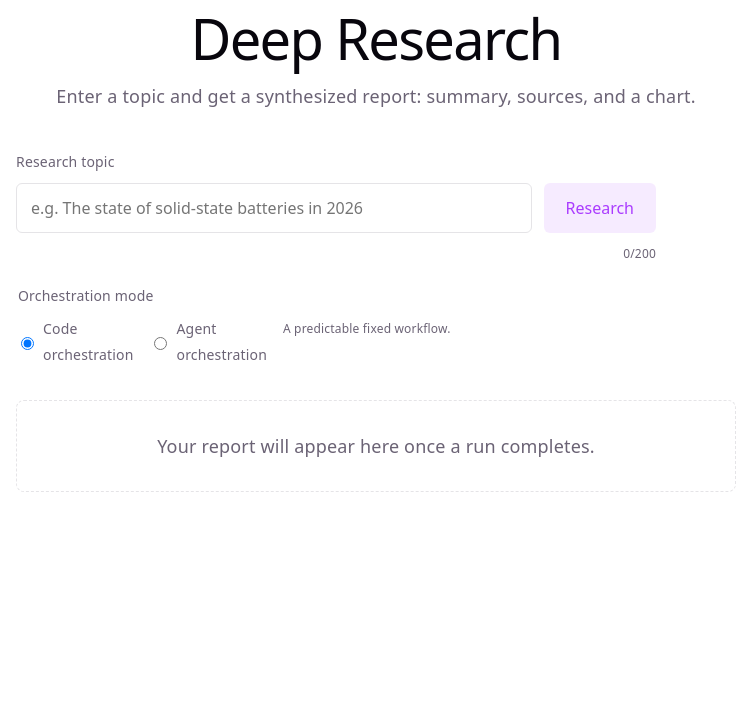
it: clarification flow › shows honest Agent progress and prevents duplicate research requests
Click the radio button labelled "Agent orchestration" at (161, 343), box [154,337,168,350]
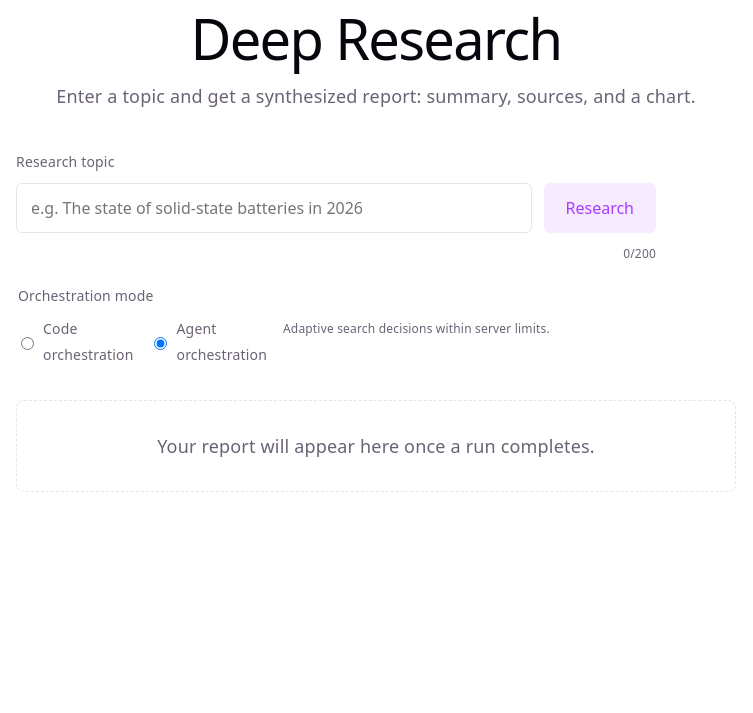
Type "topic" into the field labelled "Research topic" at (274, 208), box [16,183,532,233]
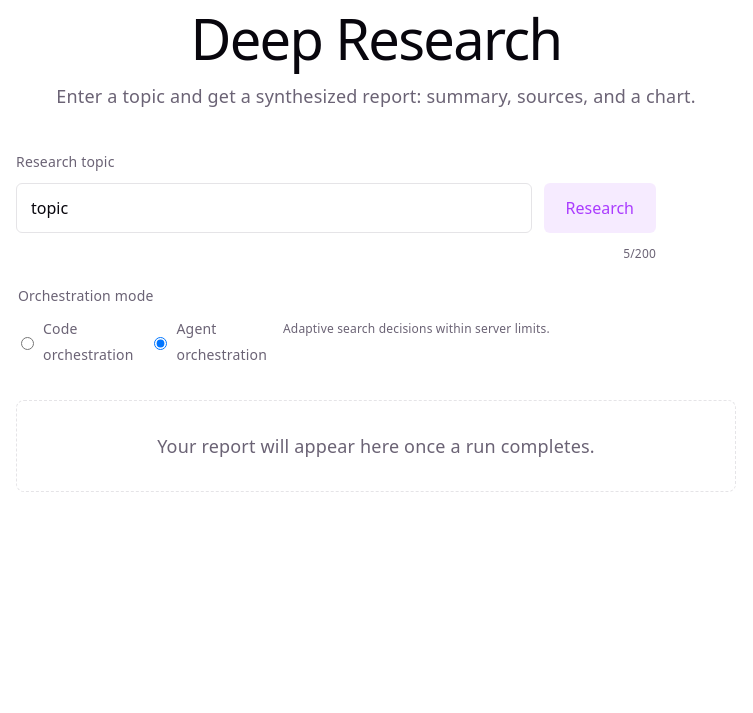
Click the button "Research" at (600, 208), box [544,183,656,233]
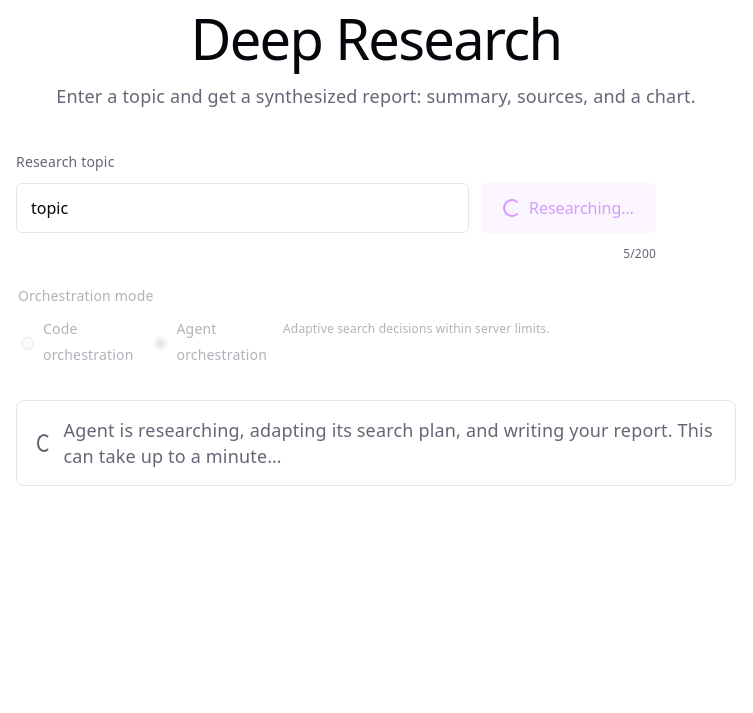
Result: the text "Agent is researching, adapting its search plan, and writing your report. This can take up to a minute…" is shown at [64,418,713,468]
Result: the button "Researching…" is disabled
Click the button "Researching…" at (568, 208), box [481,183,656,233]
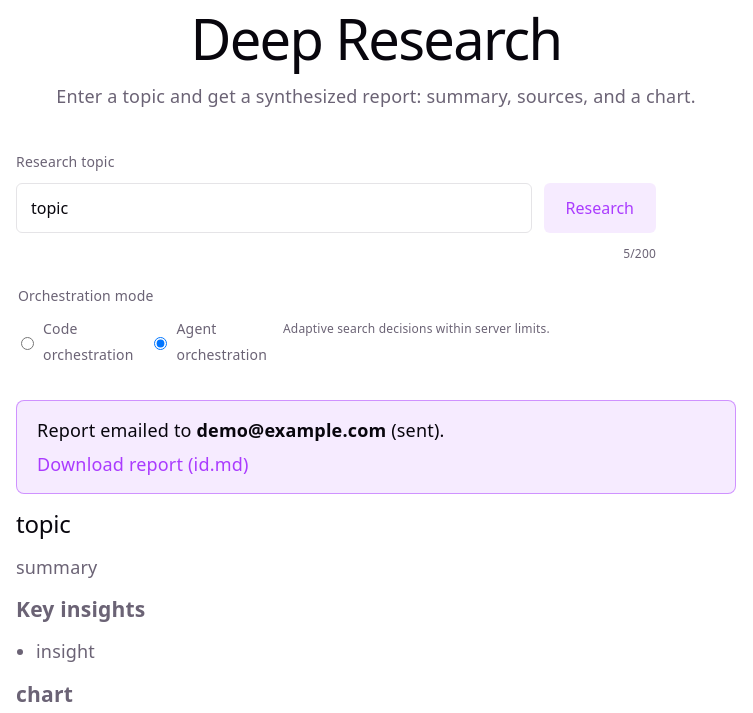
Result: the text "summary" is shown at [16,555,97,579]
